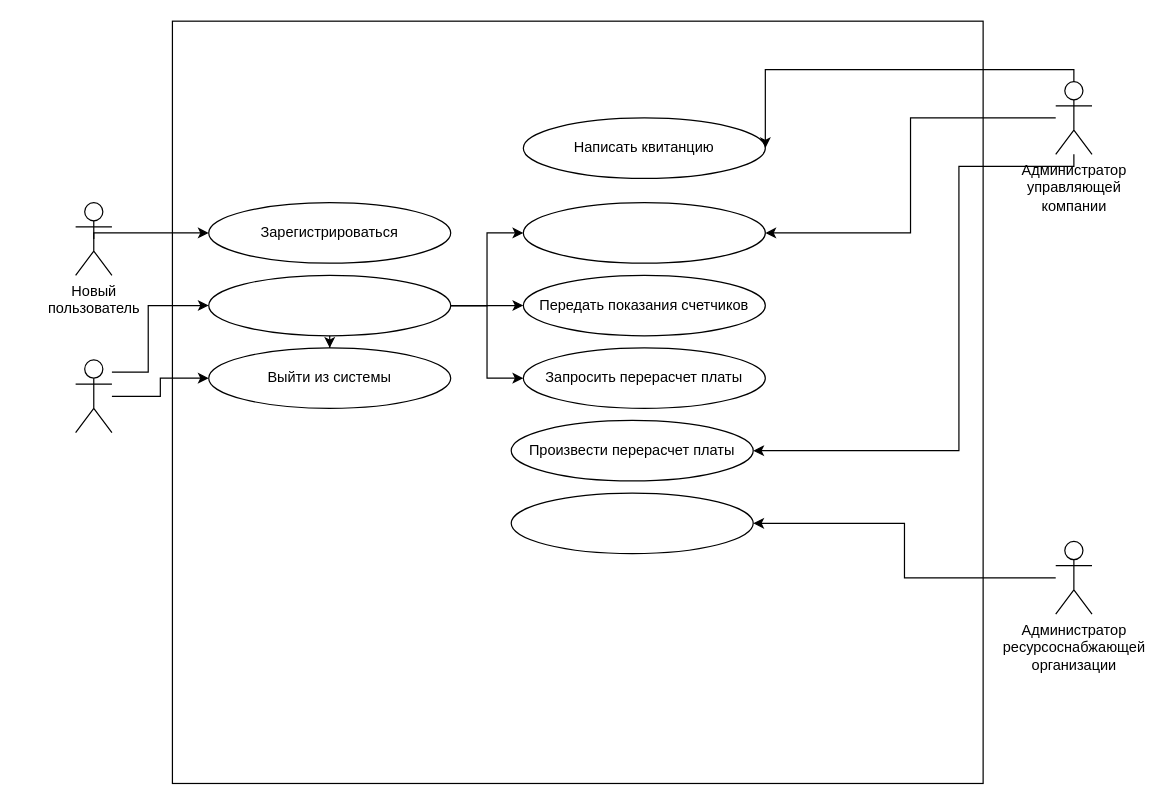
The diagram is 1166 pixels wide and 805 high, and some of its shapes have lost their labels. Here are the shapes that lost their labels. From the top down, the centre of each, then its label:
pixel 643 232: Просмортеть историю квитанций
pixel 329 305: Войти в систему
pixel 93 396: Зарегистрированный пользователь
pixel 631 523: Просмотреть данные о потреблении ресурсов
